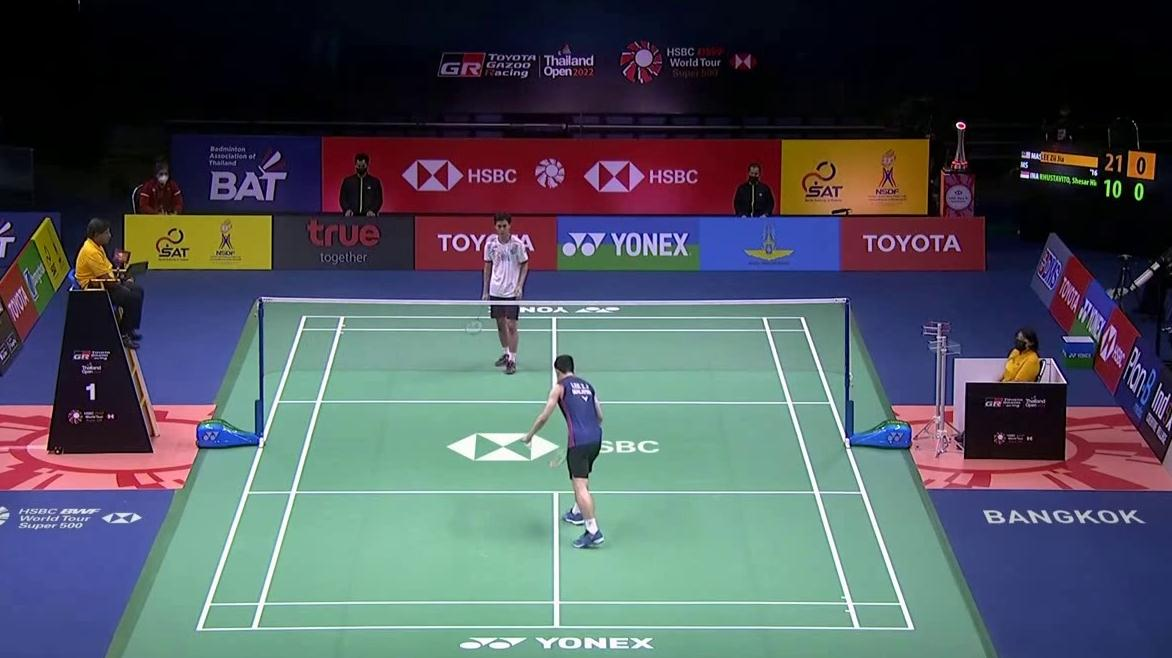racket: (549, 427, 590, 469), (465, 294, 488, 334)
shuttle: (523, 435, 532, 450)
